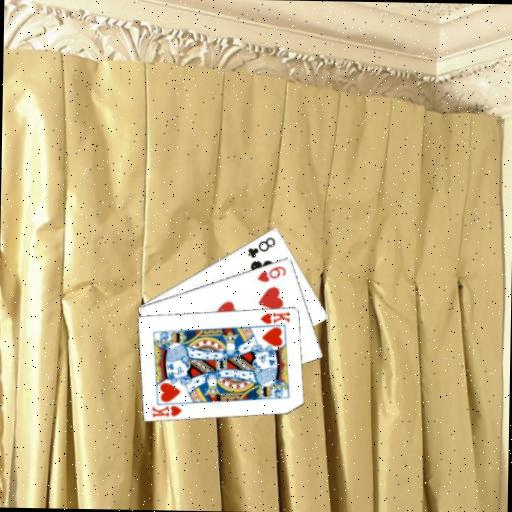6H: (254, 263, 288, 284)
8C: (245, 233, 277, 260)
KH: (258, 308, 292, 326), (149, 402, 184, 419)
